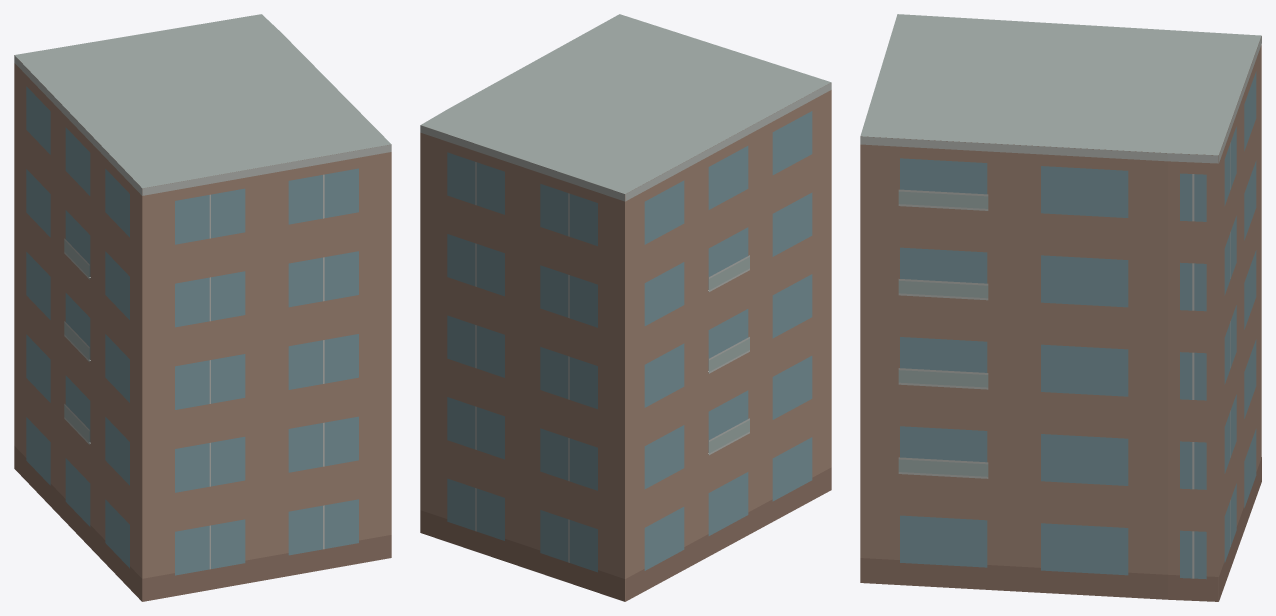
File: survey-upis-33047000.glb
The picture shows the model from 3 angles, left to right: view 1: azimuth 30°, elevation 25°; view 2: azimuth 150°, elevation 25°; view 3: azimuth 270°, elevation 25°; orthographic projection. The views are drawn at different scales.
Parts seen in each view (by area): view 1: survey-upis-33047000.tmp; view 2: survey-upis-33047000.tmp; view 3: survey-upis-33047000.tmp.
Boxes of the visible parts, box(x1,y1,x2,y2) form: survey-upis-33047000.tmp: box(14, 14, 391, 601); survey-upis-33047000.tmp: box(420, 14, 831, 601); survey-upis-33047000.tmp: box(860, 14, 1261, 601).
Bounding box in the file's own units: 9.04 × 13.3 × 10.84.
